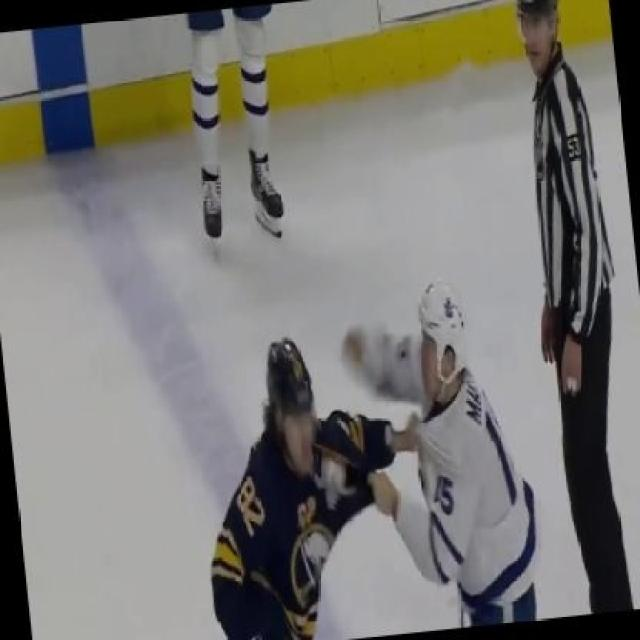fight: (171, 262, 603, 638)
non-fight: (515, 0, 640, 640)
